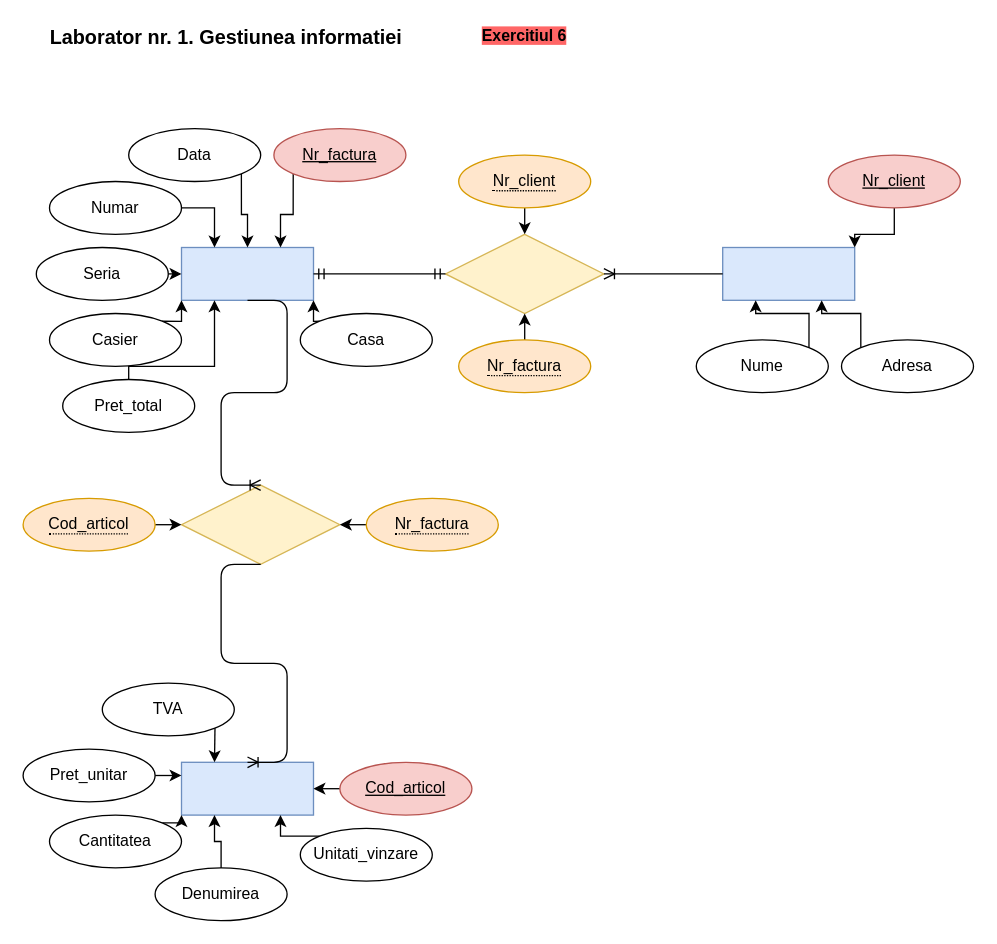
Image size: 997x944. Some labels were removed from this diagram. Each missing label, with the centre of its shape:
Apartine: the point at 524,273
Articol: the point at 247,788
Client: the point at 788,273
Contine: the point at 260,524
Factura: the point at 247,273
